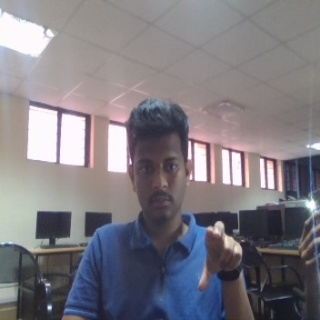No: (197, 220, 245, 294)
